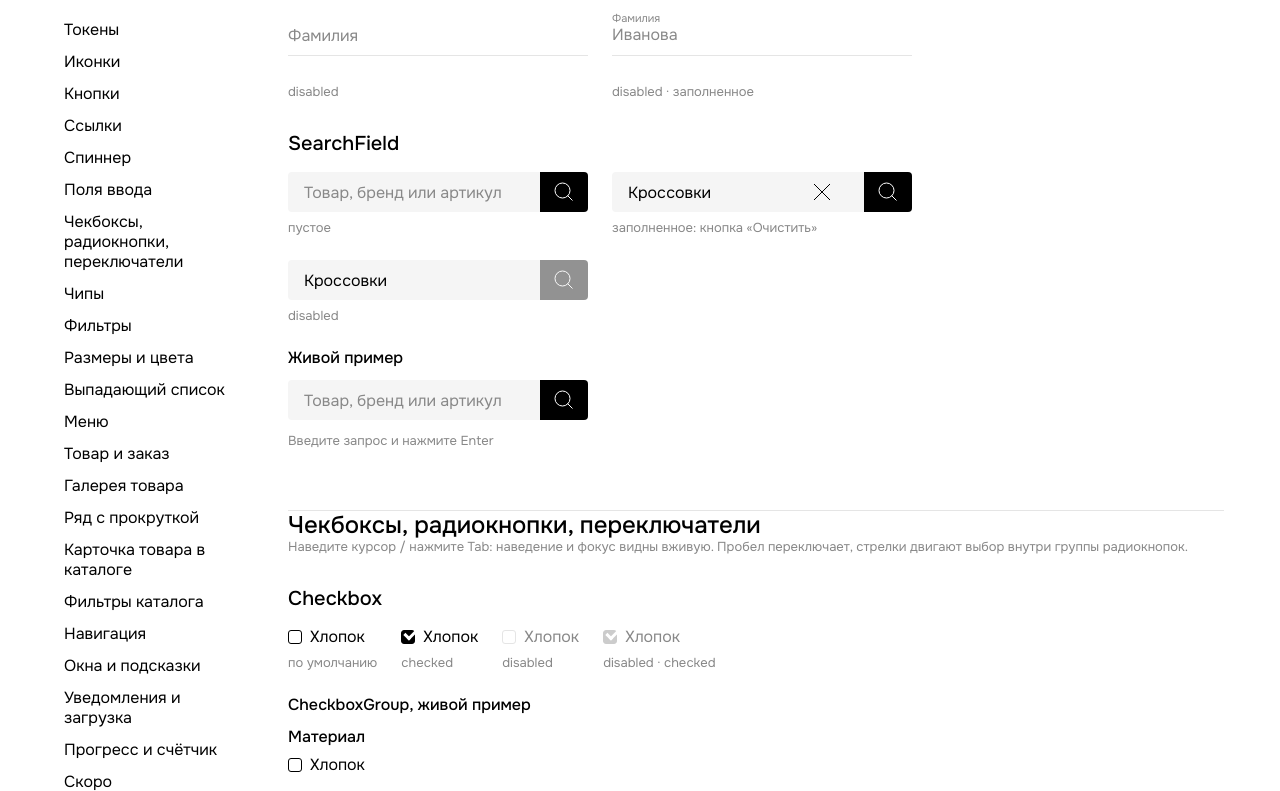
Test: fields section › shows what the live search would look for
(page scrolled)
Type "платье" into the 2nd search field with placeholder "Товар, бренд или артикул" at coordinates (414, 400), box [288, 380, 540, 420]
Then press Enter
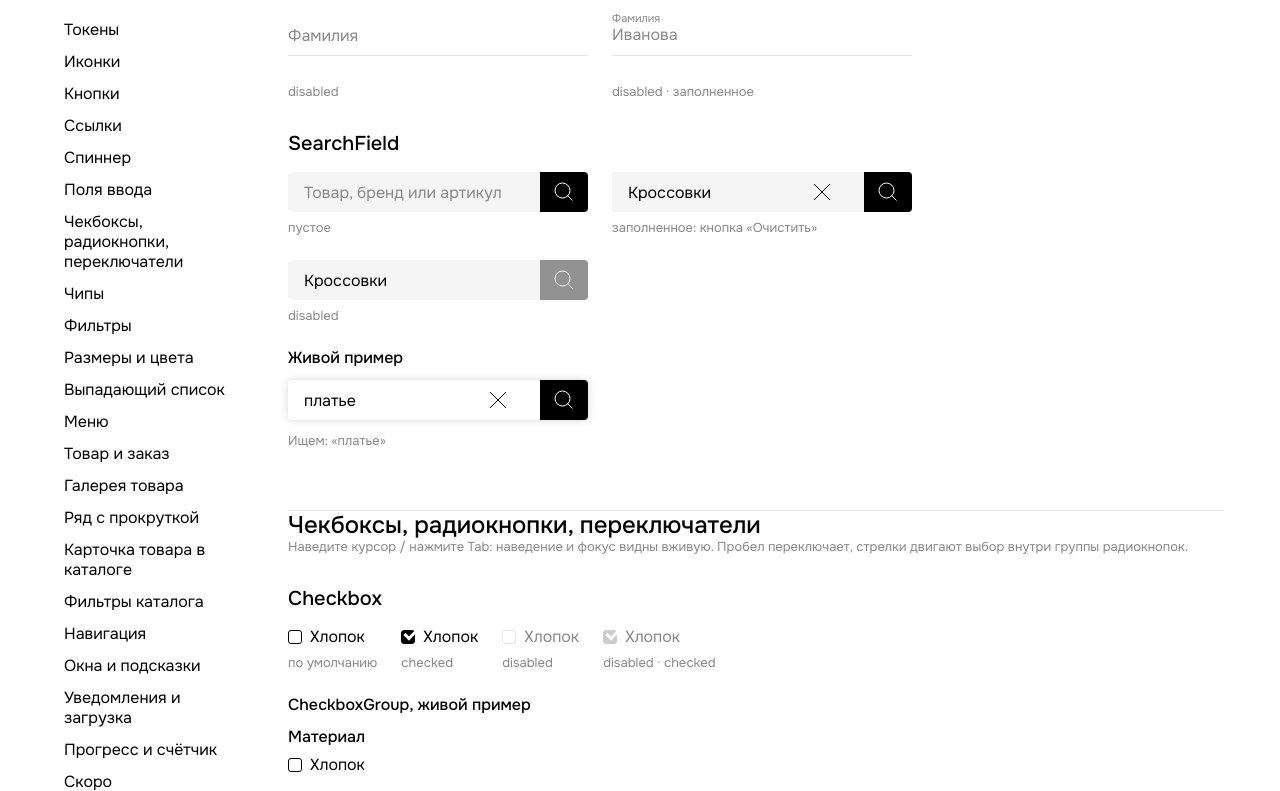
Now the text "Ищем: «платье»" is shown, box [288, 432, 386, 449]
